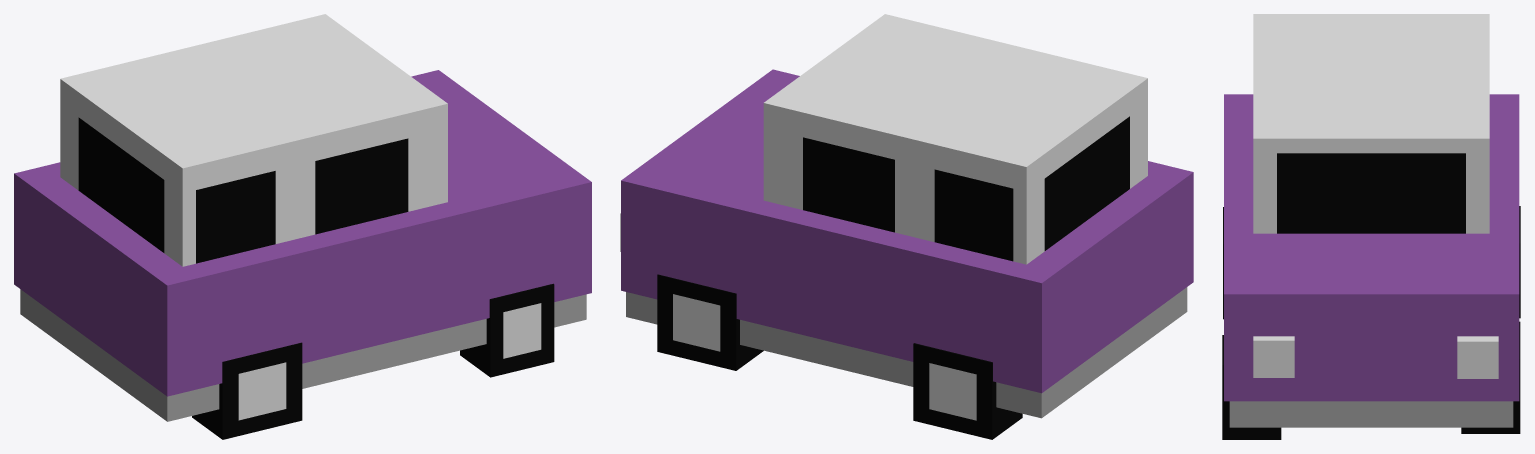
Rendered from carpurple.fbx.
The picture shows the model from 3 angles, left to right: view 1: azimuth 30°, elevation 25°; view 2: azimuth 150°, elevation 25°; view 3: azimuth 270°, elevation 25°; orthographic projection. The views are drawn at different scales.
Visible parts, largest first — view 1: pCube1, pasted__pCube1, pCube4, pasted__pCube2, pCube2; view 2: pCube1, pasted__pCube1, pCube4, pasted__pasted__pCube2, pasted__pCube2; view 3: pCube1, pasted__pCube1, pCube4, pasted__pCube3, pCube3, pCube2, pasted__pCube2.
Boxes of the visible parts, <box> form: pCube1: <box>14,70,591,396</box>; pasted__pCube1: <box>60,14,447,266</box>; pCube4: <box>20,289,586,421</box>; pasted__pCube2: <box>192,342,302,439</box>; pCube2: <box>460,283,554,377</box>; pCube1: <box>621,69,1193,393</box>; pasted__pCube1: <box>763,14,1147,264</box>; pCube4: <box>626,287,1187,418</box>; pasted__pasted__pCube2: <box>913,343,1022,439</box>; pasted__pCube2: <box>657,274,763,370</box>; pCube1: <box>1224,94,1519,401</box>; pasted__pCube1: <box>1253,14,1489,233</box>; pCube4: <box>1229,401,1513,427</box>; pasted__pCube3: <box>1457,336,1498,378</box>; pCube3: <box>1253,336,1294,377</box>; pCube2: <box>1222,335,1281,439</box>; pasted__pCube2: <box>1461,321,1520,433</box>.
Size of the model in its own units: 8.21 by 4.83 by 5.05.
